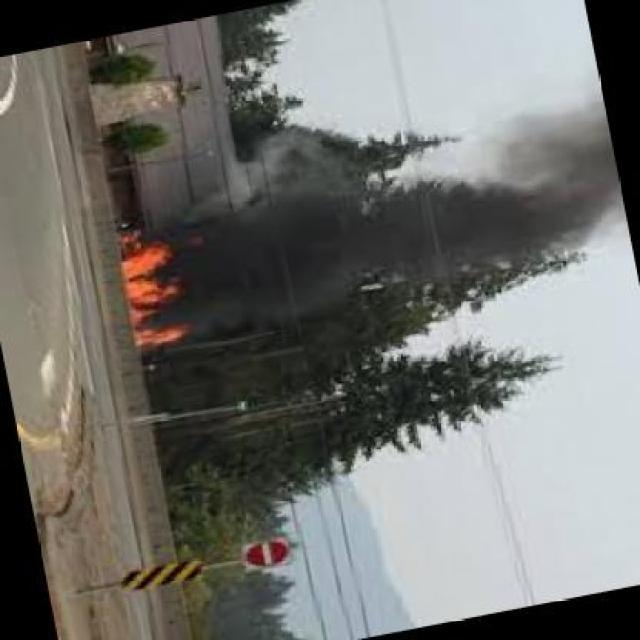Fire: (108, 228, 190, 365)
Smoke: (194, 116, 608, 355)
